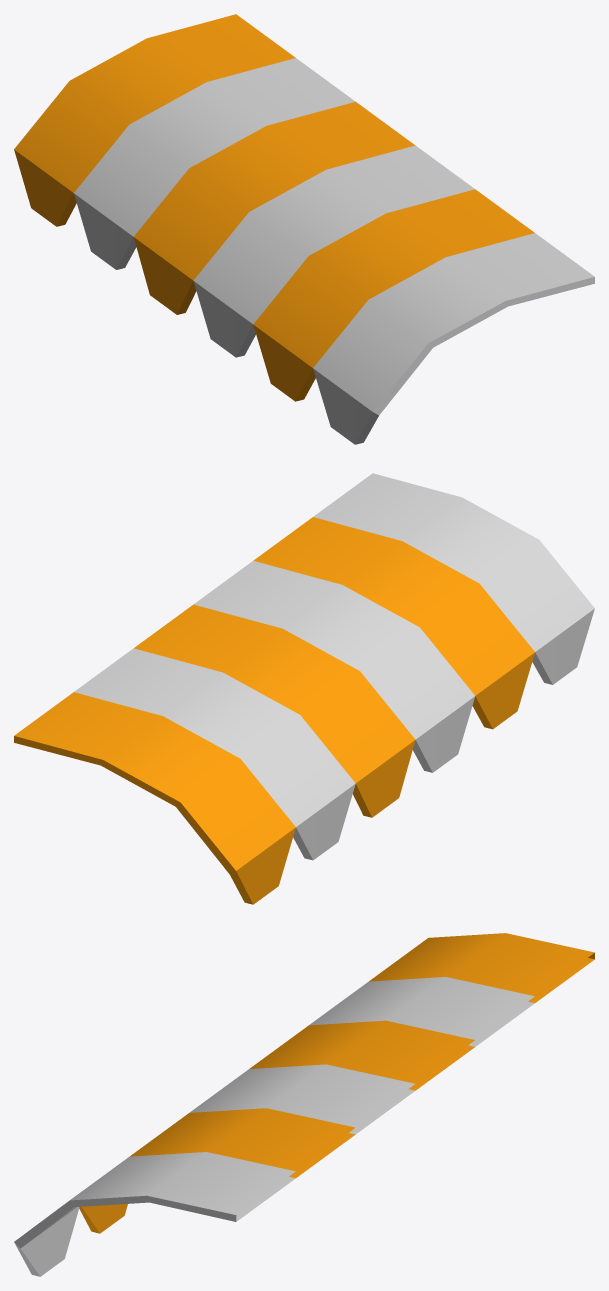
Rendered from Awning_3_I.fbx.
The picture shows the model from 3 angles, top to bottom: view 1: azimuth 30°, elevation 25°; view 2: azimuth 150°, elevation 25°; view 3: azimuth 330°, elevation 25°; orthographic projection.
Parts seen in each view (by area): view 1: Awning_3_I; view 2: Awning_3_I; view 3: Awning_3_I.
Part boxes in pixels (x1,y1,x2,y2): Awning_3_I: (14, 14, 594, 444); Awning_3_I: (14, 473, 594, 904); Awning_3_I: (14, 933, 594, 1276).
Size of the model in its own units: 99.94 by 54.72 by 280.
